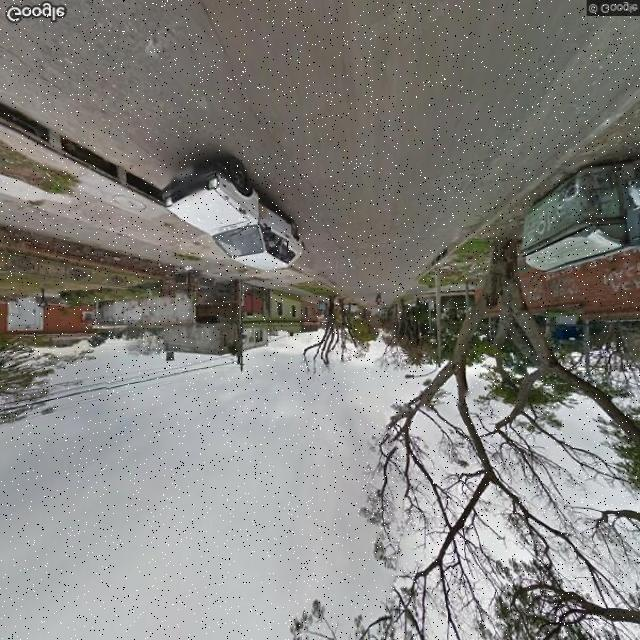garbage container: (512, 149, 640, 282)
